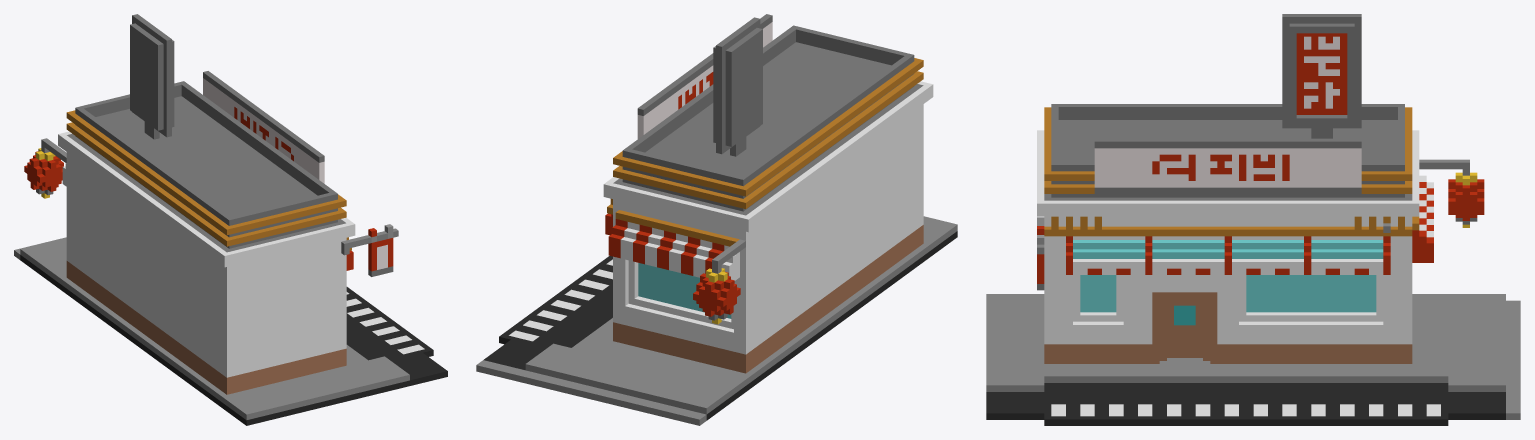
The model's file is Eastern Restaurant.obj.
The picture shows the model from 3 angles, left to right: view 1: azimuth 30°, elevation 25°; view 2: azimuth 150°, elevation 25°; view 3: azimuth 270°, elevation 25°; orthographic projection. The views are drawn at different scales.
Visible parts, largest first — view 1: Asian restaurant; view 2: Asian restaurant; view 3: Asian restaurant.
Boxes of the visible parts, x1,y1,x2,y2 form: Asian restaurant: [14, 14, 447, 425]; Asian restaurant: [476, 14, 957, 425]; Asian restaurant: [986, 14, 1520, 425].
Size of the model in its own units: 4 by 4.9 by 7.4.
1 material, 1 textured.
